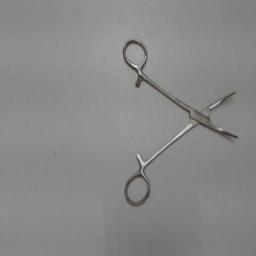Crile Artery Forceps: (118, 31, 244, 209)
